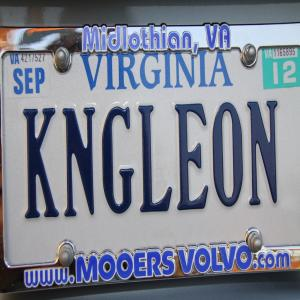Vehicle-registration-plate: (1, 21, 300, 297)
